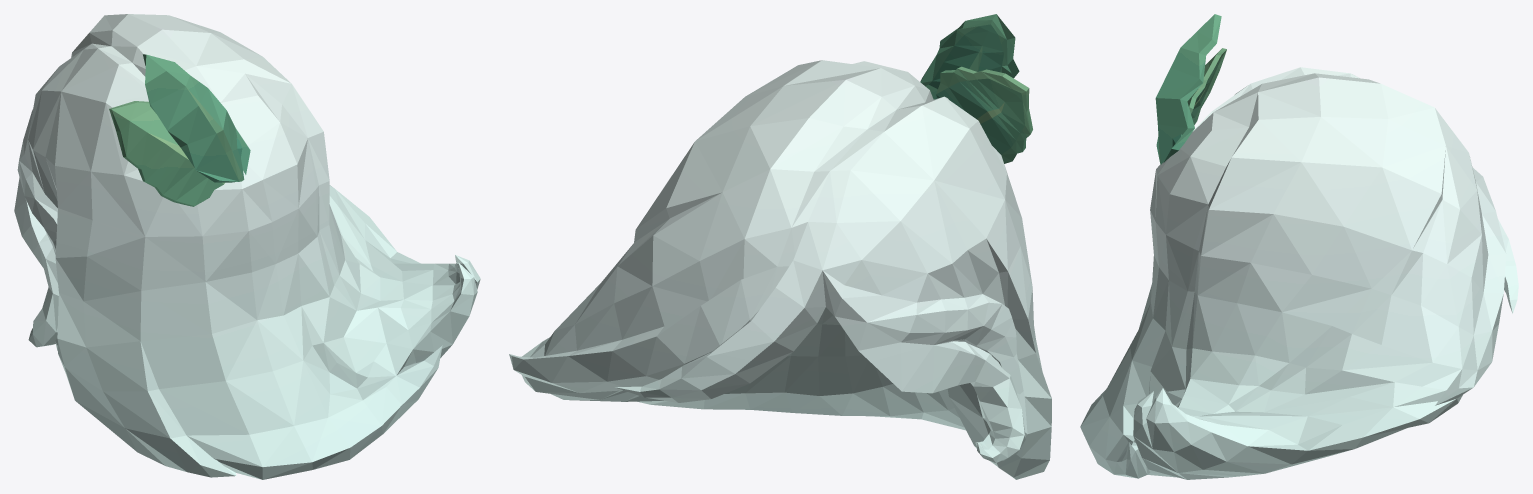
Rendered from CharSkyKid_Hair_CallaLily.glb.
The picture shows the model from 3 angles, left to right: view 1: azimuth 30°, elevation 25°; view 2: azimuth 150°, elevation 25°; view 3: azimuth 270°, elevation 25°; orthographic projection. The views are drawn at different scales.
Visible parts, largest first — view 1: CharSkyKid_Hair_CallaLily; view 2: CharSkyKid_Hair_CallaLily; view 3: CharSkyKid_Hair_CallaLily.
Part boxes in pixels (x1,y1,x2,y2): CharSkyKid_Hair_CallaLily: (14,14,480,479); CharSkyKid_Hair_CallaLily: (509,14,1051,479); CharSkyKid_Hair_CallaLily: (1080,14,1518,479).
Size of the model in its own units: 4.03 by 4.09 by 4.22.
Materials: 1 (1 with a texture image).
